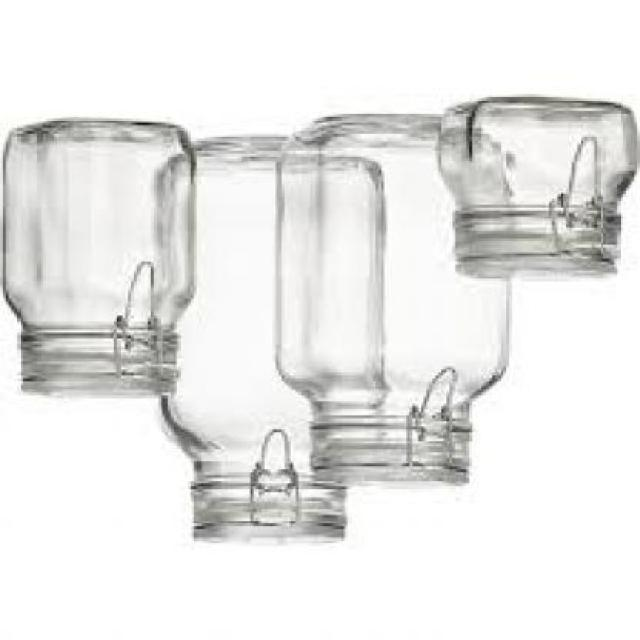GLASS: (276, 117, 510, 489), (157, 148, 375, 540), (0, 124, 194, 396), (432, 103, 634, 279)
